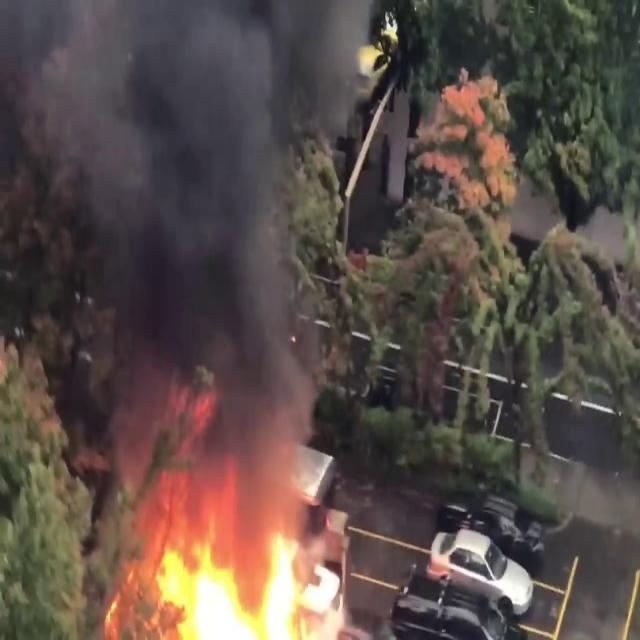Fire: (139, 521, 339, 640)
Smoke: (0, 0, 353, 517)
